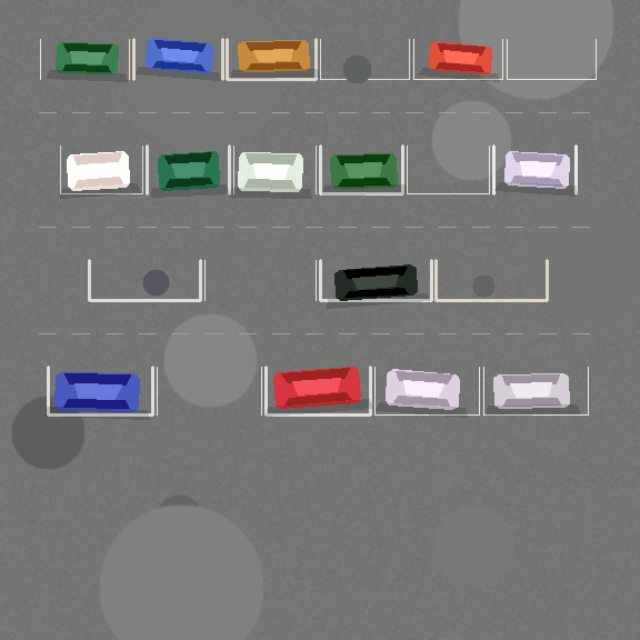space-empty: (157, 367, 261, 414), (204, 260, 316, 300), (89, 260, 200, 300), (436, 260, 547, 300), (407, 146, 489, 193), (320, 39, 409, 79), (507, 39, 596, 79)
space-occupied: (374, 367, 479, 414), (483, 367, 588, 414), (48, 367, 152, 414), (266, 367, 370, 414), (320, 260, 431, 300), (233, 146, 316, 193), (493, 146, 576, 193), (60, 146, 142, 193), (147, 146, 229, 193), (320, 146, 402, 193), (40, 39, 129, 79), (133, 39, 222, 79), (227, 39, 316, 79), (413, 39, 502, 79)
